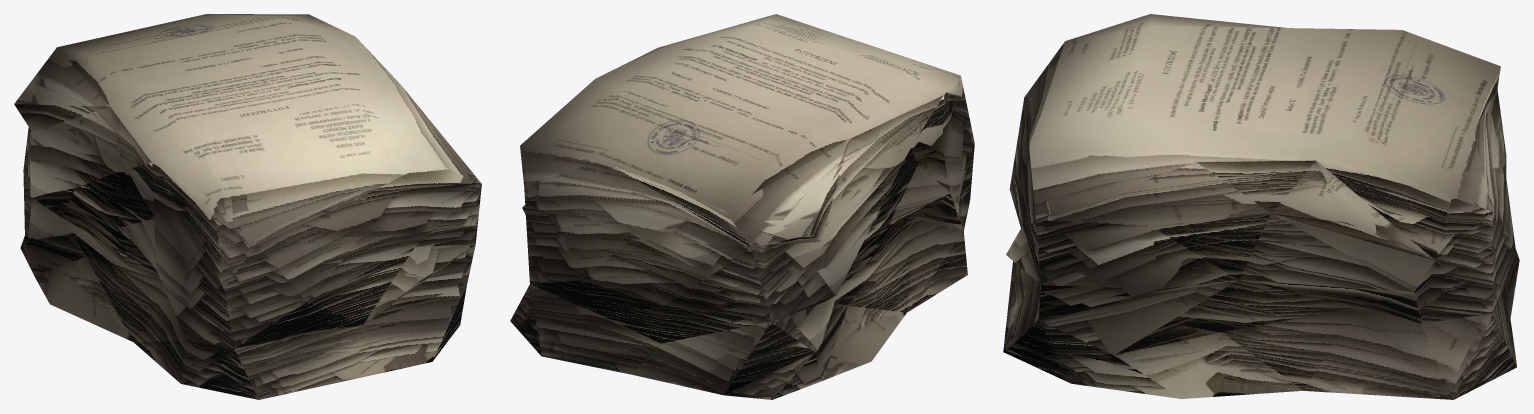
File: ev-receipt.opt.glb
The picture shows the model from 3 angles, left to right: view 1: azimuth 30°, elevation 25°; view 2: azimuth 150°, elevation 25°; view 3: azimuth 270°, elevation 25°; orthographic projection. The views are drawn at different scales.
Size of the model in its own units: 2.65 by 1.72 by 3.33.
1 material, 1 textured.
